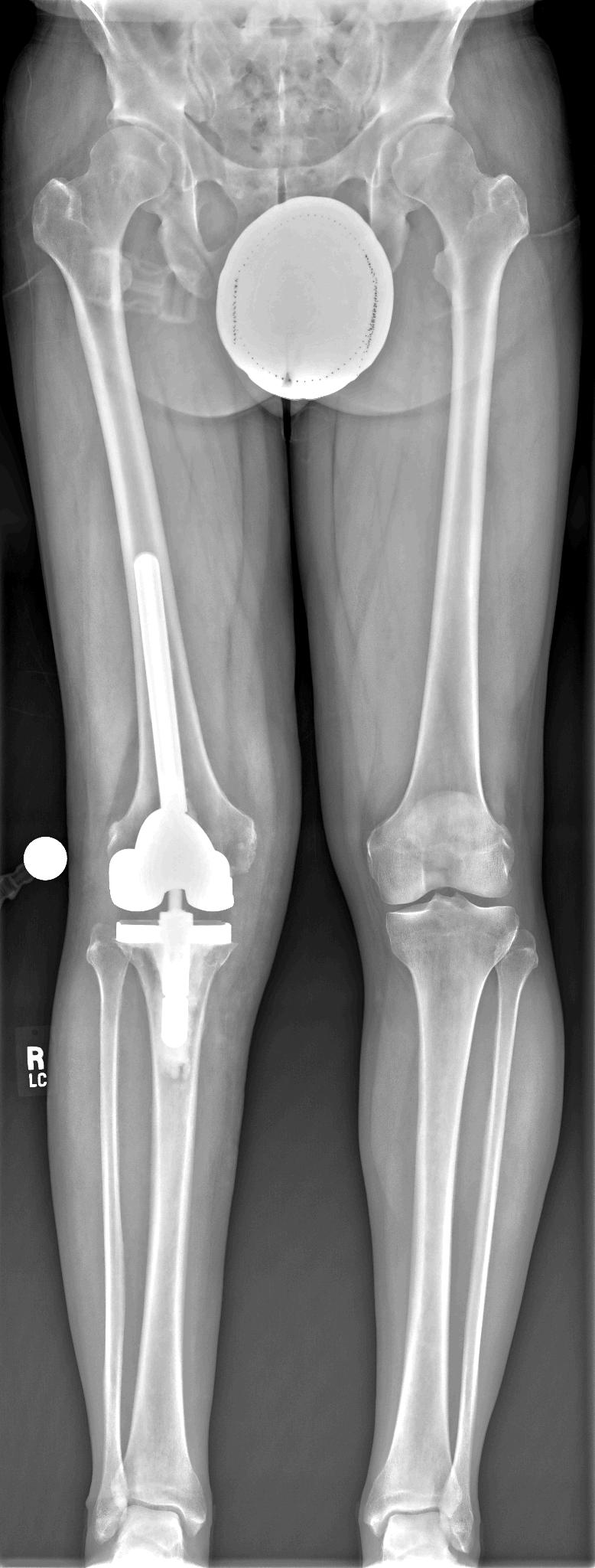Leg Fibula: (440, 930, 537, 1552), (89, 942, 133, 1541)
Leg Tibia: (363, 896, 520, 1531), (112, 918, 238, 1534)
femur: (31, 125, 254, 906), (369, 125, 531, 906)
